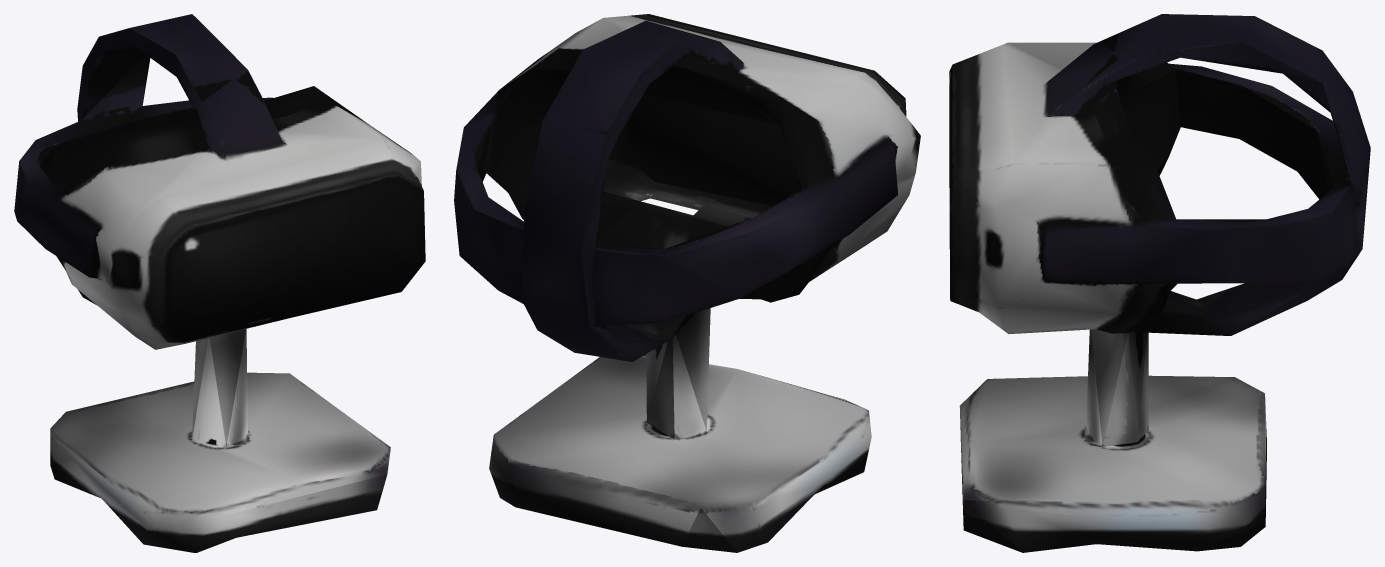
File: vr-headset-stand.glb
3 renders of one model, left to right at view 1: azimuth 30°, elevation 25°; view 2: azimuth 150°, elevation 25°; view 3: azimuth 270°, elevation 25°, orthographic. The views are drawn at different scales.
Parts seen in each view (by area): view 1: geometry_0.001; view 2: geometry_0.001; view 3: geometry_0.001.
Part boxes in pixels (x1,y1,x2,y2): geometry_0.001: (14, 14, 425, 552); geometry_0.001: (454, 14, 920, 552); geometry_0.001: (949, 14, 1370, 552).
Size of the model in its own units: 0.8134 by 1 by 0.8234.
Materials: 1 (1 with a texture image).
